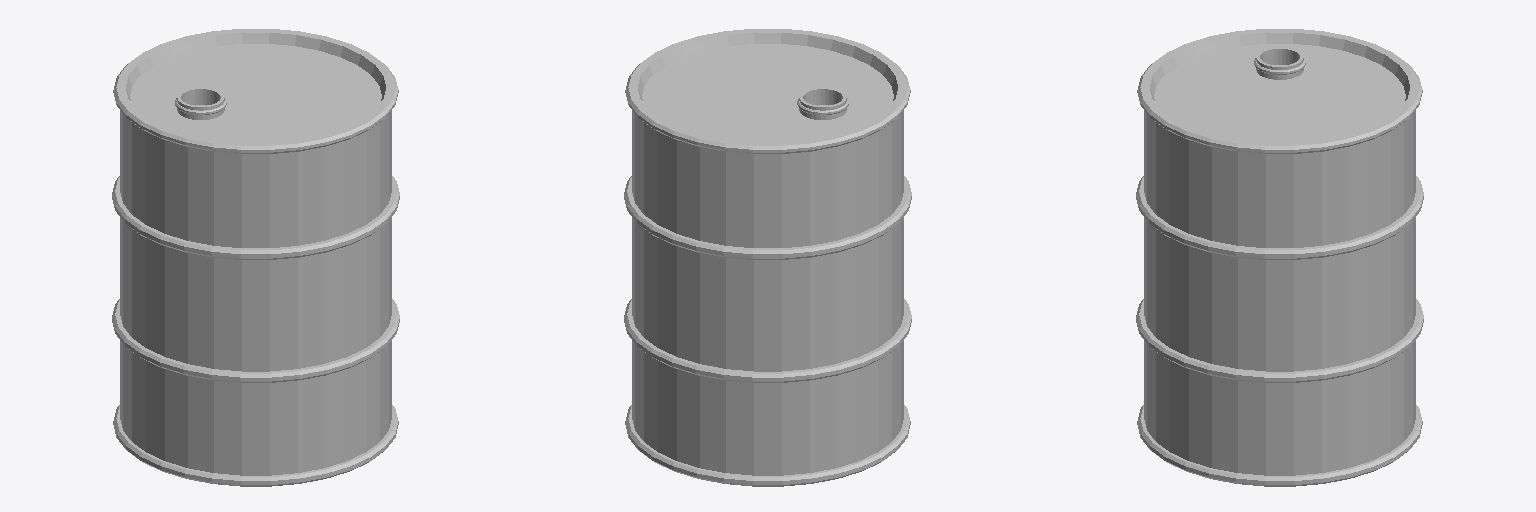
The model's file is BARREL1.obj.
3 views of the same model, side by side, from view 1: azimuth 30°, elevation 25°; view 2: azimuth 150°, elevation 25°; view 3: azimuth 270°, elevation 25° (orthographic).
Parts seen in each view (by area): view 1: Barrel.NR1_Inst.002_OilBarrel_Cylinder.002; view 2: Barrel.NR1_Inst.002_OilBarrel_Cylinder.002; view 3: Barrel.NR1_Inst.002_OilBarrel_Cylinder.002.
Boxes of the visible parts, x1=… form: Barrel.NR1_Inst.002_OilBarrel_Cylinder.002: x1=112, y1=29, x2=399, y2=486; Barrel.NR1_Inst.002_OilBarrel_Cylinder.002: x1=624, y1=29, x2=911, y2=486; Barrel.NR1_Inst.002_OilBarrel_Cylinder.002: x1=1136, y1=29, x2=1423, y2=486.
Bounding box in the file's own units: 2.11 × 2.79 × 2.12.